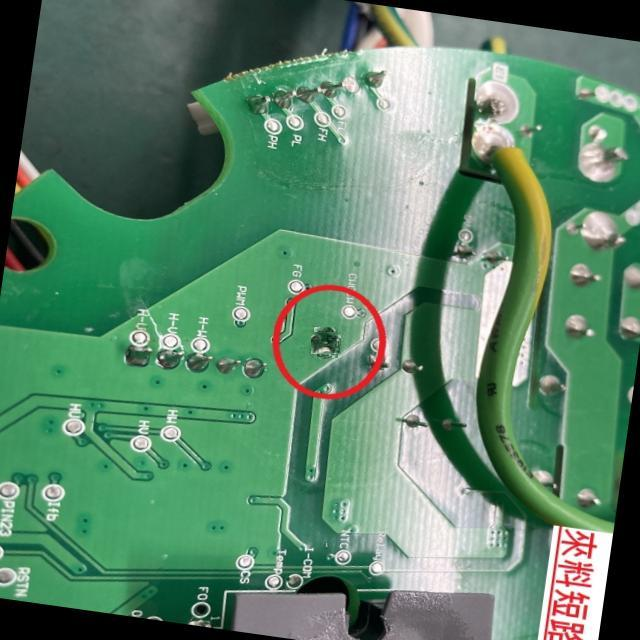Short_circuit: (312, 332, 341, 354)
